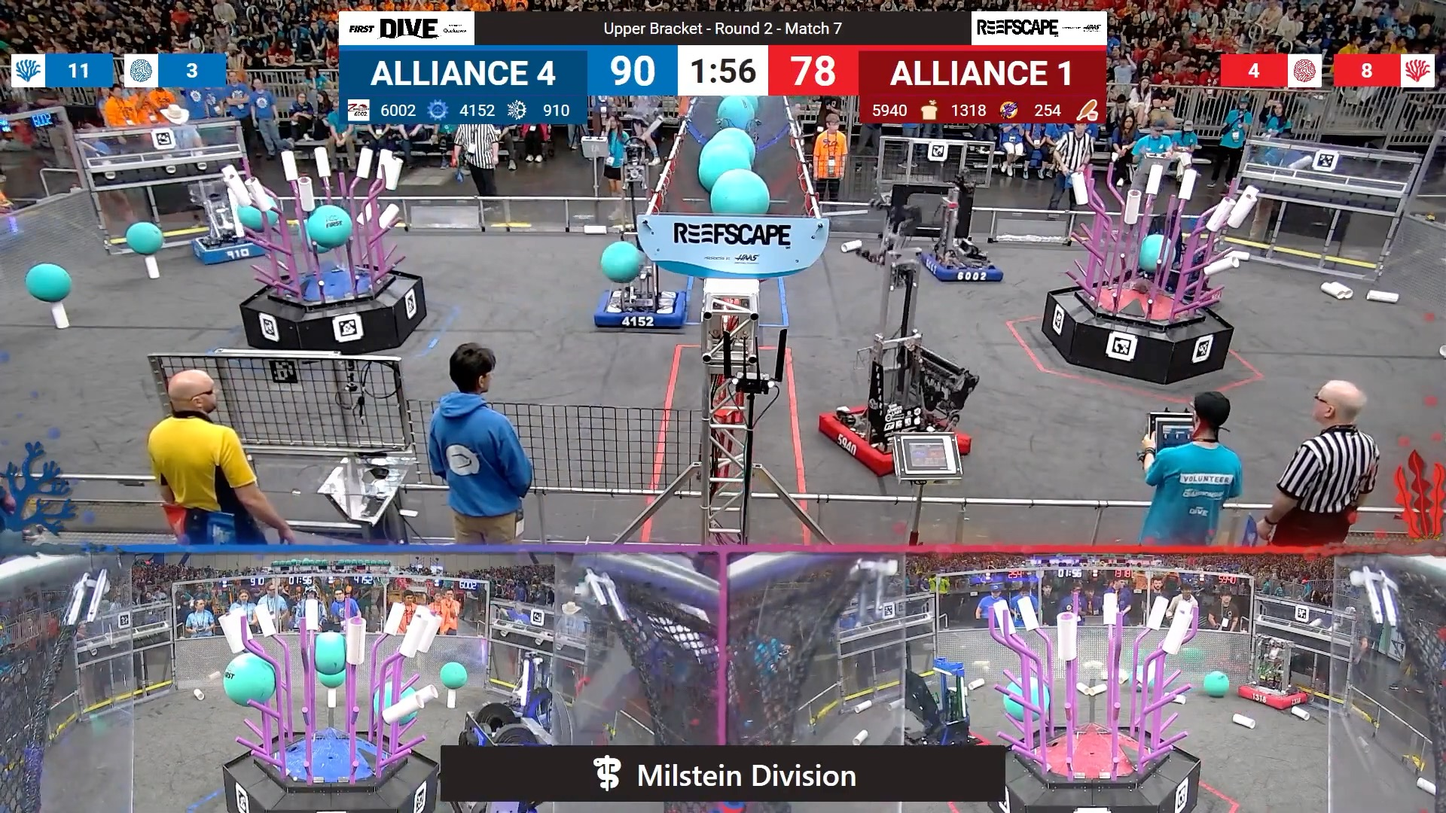bumpers: (816, 405, 975, 482), (591, 285, 691, 333), (184, 231, 277, 270), (908, 253, 1008, 288), (1233, 683, 1314, 714)
